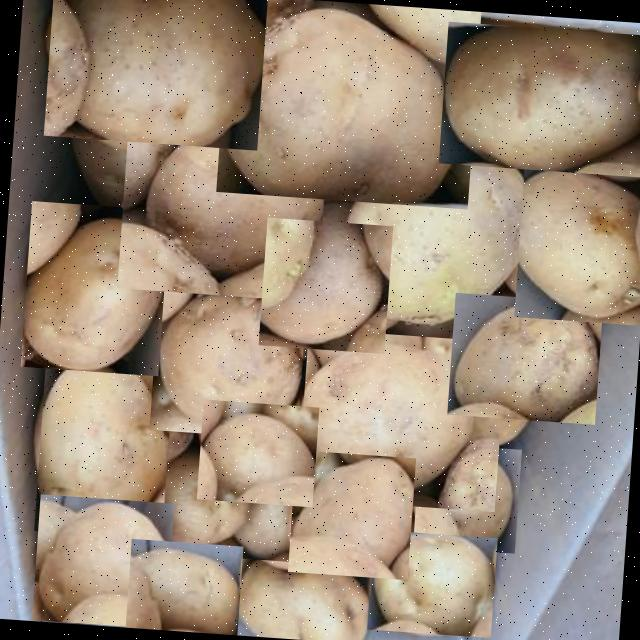Potato: (215, 0, 480, 208), (326, 136, 542, 342), (115, 111, 328, 301), (296, 328, 505, 510), (42, 0, 266, 149), (437, 20, 640, 177), (148, 272, 307, 438), (33, 350, 173, 538), (19, 200, 168, 374), (446, 292, 602, 424), (513, 165, 640, 325), (31, 493, 172, 628), (257, 216, 392, 352), (286, 448, 415, 578), (366, 528, 496, 636), (195, 398, 318, 506), (230, 556, 375, 640), (412, 441, 520, 552), (124, 537, 242, 635), (134, 462, 248, 558)
